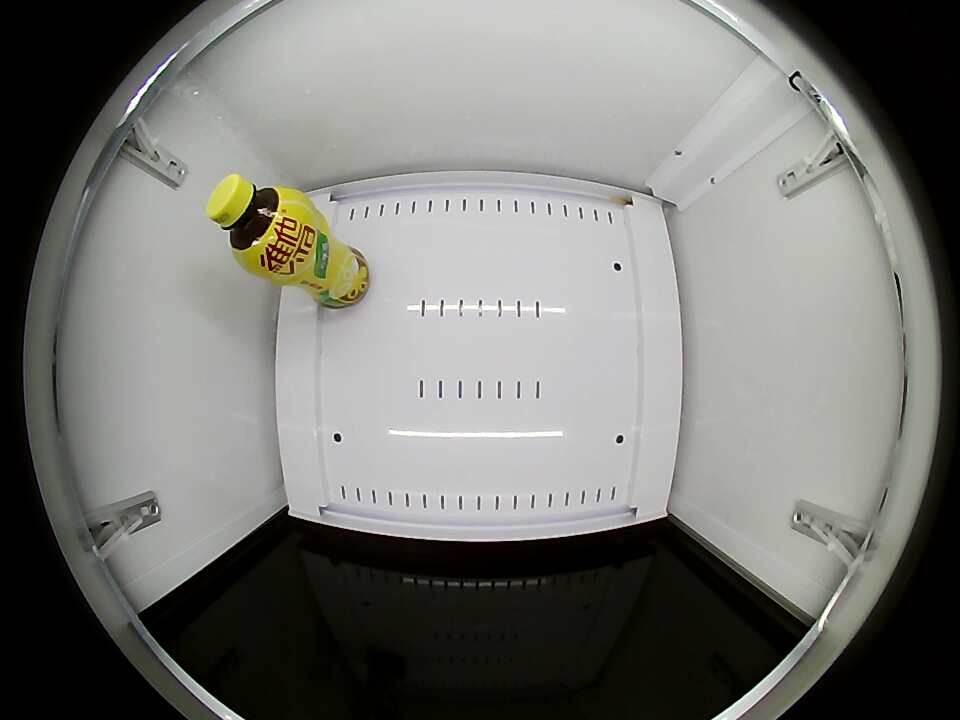weitaningmeng-bottle: (206, 173, 304, 270)
